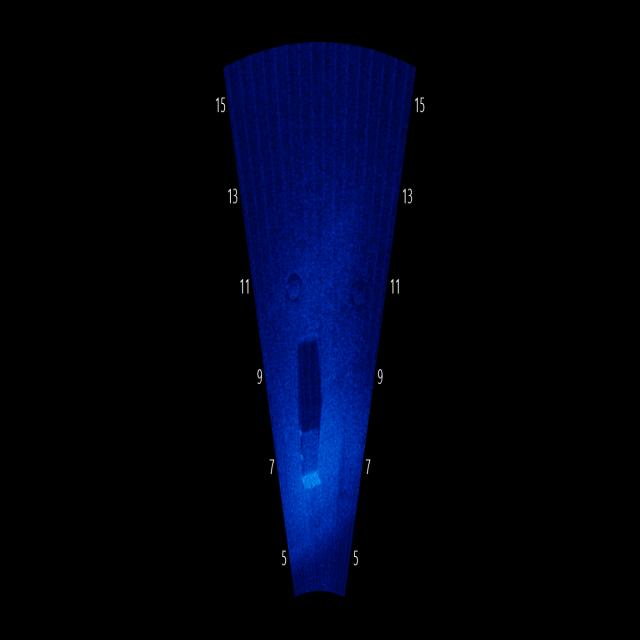square: (290, 406, 336, 498)
